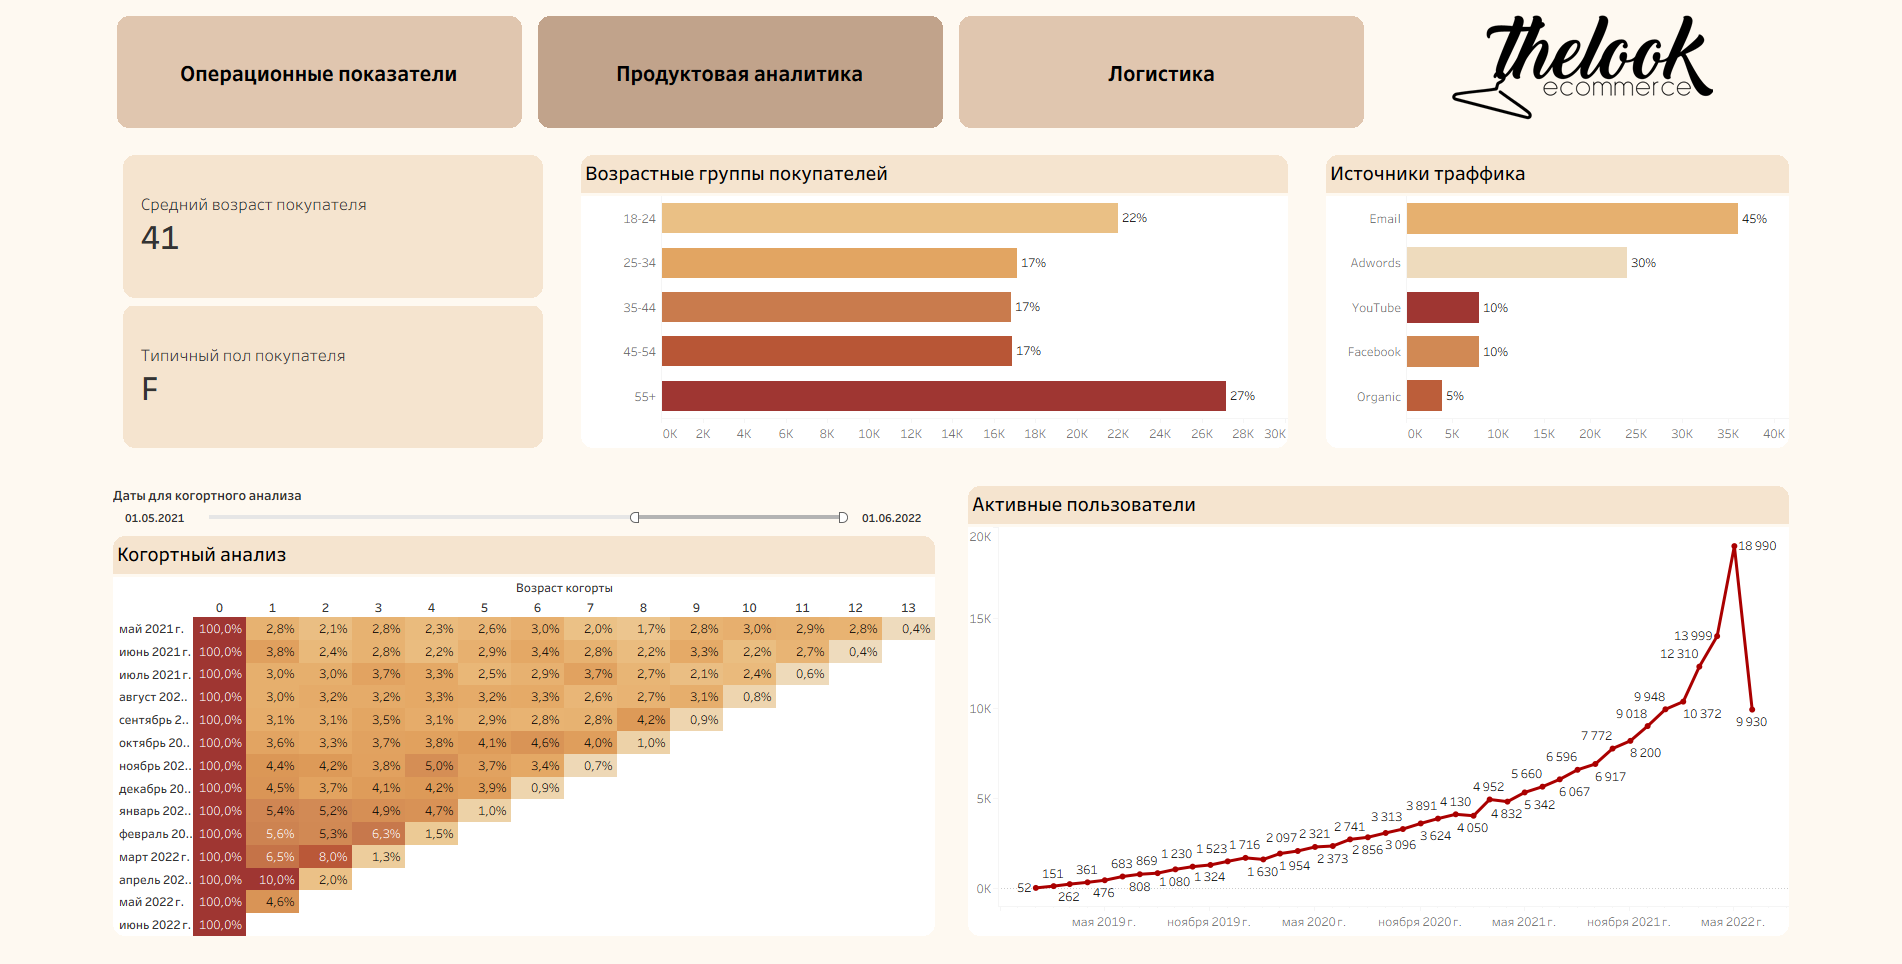

The page's visual inventory and layout, read from the dashboard file:
{"tool":"tableau","page":{"name":"Продуктовый","canvas":[1700,1800],"ordinal":2},"visuals":[{"type":"dashboard-object","box":[8,8,421,126]},{"type":"dashboard-object","box":[429,8,421,126]},{"type":"dashboard-object","box":[850,8,421,126]},{"type":"image","param":"Image/лого_лук_екоммерс.png","box":[1271,8,421,126]},{"type":"blank","box":[8,134,1684,15]},{"type":"blank","box":[8,149,10,301]},{"type":"worksheet","title":"Ф_авг год","mark":"Automatic","box":[18,149,428,150.5]},{"type":"blank","box":[446,149,30,301]},{"type":"worksheet","title":"ВОЗРАСТ","mark":"Automatic","rows":["age_group"],"cols":["users"],"box":[476,149,715,301]},{"type":"blank","box":[1191,149,30,301]},{"type":"worksheet","title":"круг 1 касание (2)","mark":"Automatic","rows":["traffic_source"],"cols":["users"],"box":[1221,149,471,301]},{"type":"worksheet","title":"Ф_пол","mark":"Automatic","box":[18,299.5,428,150.5]},{"type":"blank","box":[8,450,1684,30]},{"type":"filter","title":"КОГОРТЫ","param":"[federated.00zbwjj1hulq5u1g7fcjk1et9z1f].[none:cohort_month:qk]","box":[8,480,830,50]},{"type":"blank","box":[838,480,25,864]},{"type":"worksheet","title":"активные","mark":"Line","rows":["active_users"],"cols":["event_date"],"box":[863,480,829,458]},{"type":"worksheet","title":"КОГОРТЫ","mark":"Square","rows":["cohort_month"],"cols":["Calculation_1490116087857159"],"box":[8,530,830,408]},{"type":"blank","box":[8,937.9,830,30]},{"type":"blank","box":[863,938,829,30]},{"type":"parameter","param":"[Parameters].[Parameter 3]","box":[8,967.9,830,57]},{"type":"worksheet","title":"RFM monetary","mark":"Square","rows":["r_score"],"cols":["f_score"],"box":[863,967.9,402.9,376]},{"type":"blank","box":[1265.9,967.9,15,376]},{"type":"worksheet","title":"RFM matrix","mark":"Square","rows":["r_score"],"cols":["f_score"],"box":[1281,967.9,410.9,376]},{"type":"worksheet","title":"маржа категории","mark":"Automatic","rows":["category"],"box":[8,1024.9,413,193.1]},{"type":"blank","box":[421,1024.9,25,193.1]},{"type":"worksheet","title":"маржа бренды","mark":"Automatic","rows":["brand"],"box":[446,1024.9,392,193.1]},{"type":"legend","title":"круг 1 касание (2)","param":"[federated.0mg04cp1fp9nah1d7pg08177nhhc].[none:traffic_source:nk]","box":[8,1218,830,126]},{"type":"worksheet","title":"АВС 80%","mark":"Bar","rows":["revenue","cumulative_percent"],"cols":["category"],"box":[8,1376,1276.6,416]},{"type":"blank","box":[1284.7,1376,25,416]},{"type":"worksheet","title":"НЕТОП МАРЖА","mark":"Automatic","rows":["product_name"],"box":[1309.7,1376,382,416]}]}

Visuals, with their boxes on the page's 1700x1800 design canvas (x1, y1, x2, y2). These are canvas units, not pixel positions in the 1902x964 screenshot, which may show the page scaled, cropped or inside an application window:
dashboard-object: (left=8, top=8, right=429, bottom=134)
dashboard-object: (left=429, top=8, right=850, bottom=134)
dashboard-object: (left=850, top=8, right=1271, bottom=134)
image: (left=1271, top=8, right=1692, bottom=134)
blank: (left=8, top=134, right=1692, bottom=149)
blank: (left=8, top=149, right=18, bottom=450)
"Ф_авг год" worksheet: (left=18, top=149, right=446, bottom=300)
blank: (left=446, top=149, right=476, bottom=450)
"ВОЗРАСТ" worksheet: (left=476, top=149, right=1191, bottom=450)
blank: (left=1191, top=149, right=1221, bottom=450)
"круг 1 касание (2)" worksheet: (left=1221, top=149, right=1692, bottom=450)
"Ф_пол" worksheet: (left=18, top=300, right=446, bottom=450)
blank: (left=8, top=450, right=1692, bottom=480)
"КОГОРТЫ" filter: (left=8, top=480, right=838, bottom=530)
blank: (left=838, top=480, right=863, bottom=1344)
"активные" worksheet (Line marks): (left=863, top=480, right=1692, bottom=938)
"КОГОРТЫ" worksheet (Square marks): (left=8, top=530, right=838, bottom=938)
blank: (left=8, top=938, right=838, bottom=968)
blank: (left=863, top=938, right=1692, bottom=968)
parameter: (left=8, top=968, right=838, bottom=1025)
"RFM monetary" worksheet (Square marks): (left=863, top=968, right=1266, bottom=1344)
blank: (left=1266, top=968, right=1281, bottom=1344)
"RFM matrix" worksheet (Square marks): (left=1281, top=968, right=1692, bottom=1344)
"маржа категории" worksheet: (left=8, top=1025, right=421, bottom=1218)
blank: (left=421, top=1025, right=446, bottom=1218)
"маржа бренды" worksheet: (left=446, top=1025, right=838, bottom=1218)
"круг 1 касание (2)" legend: (left=8, top=1218, right=838, bottom=1344)
"АВС 80%" worksheet (Bar marks): (left=8, top=1376, right=1285, bottom=1792)
blank: (left=1285, top=1376, right=1310, bottom=1792)
"НЕТОП МАРЖА" worksheet: (left=1310, top=1376, right=1692, bottom=1792)
